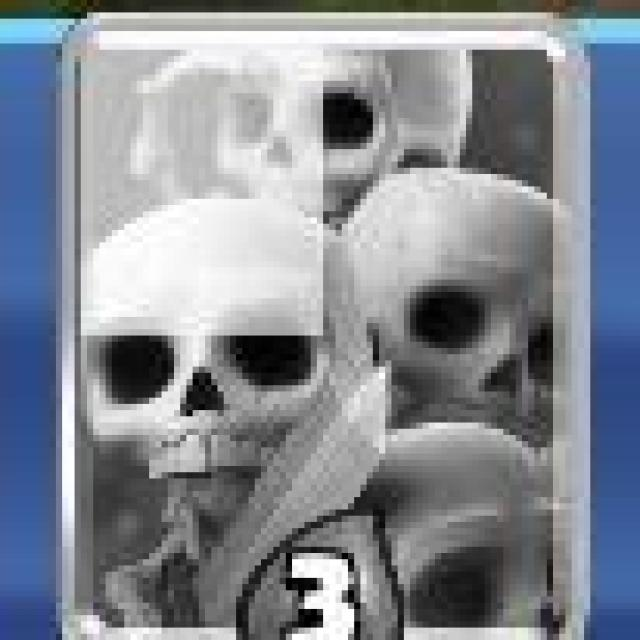Skeleton_Army: (62, 14, 587, 640)
